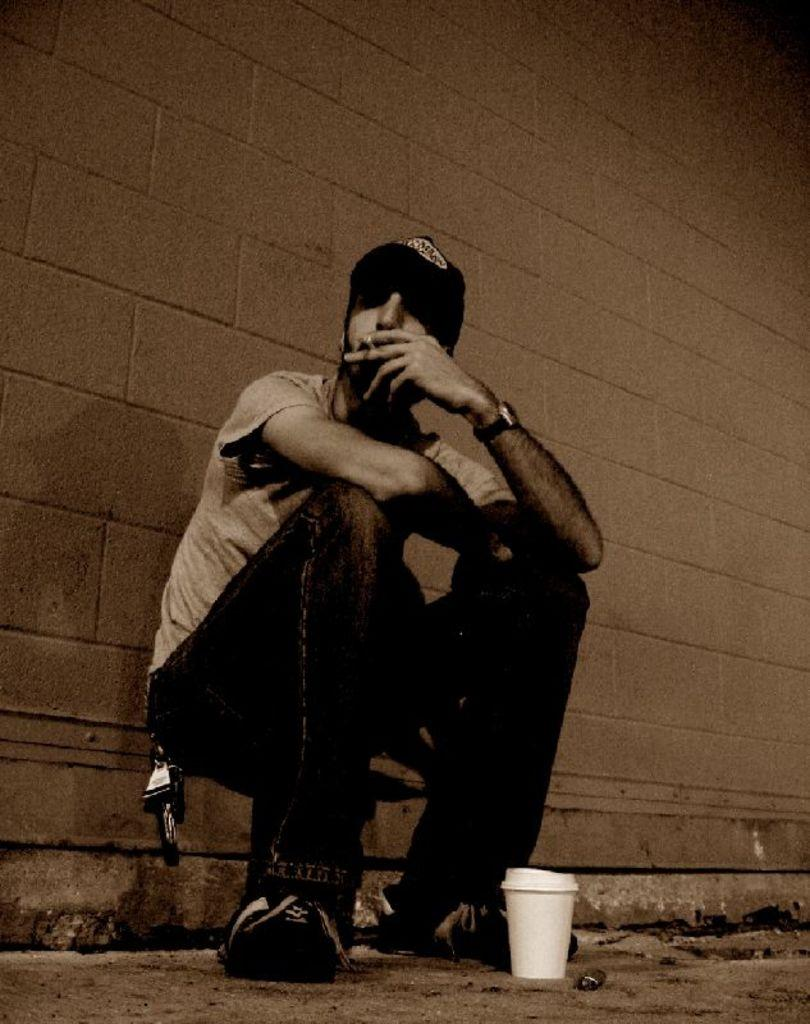Sem Máscara: (345, 266, 437, 406)
